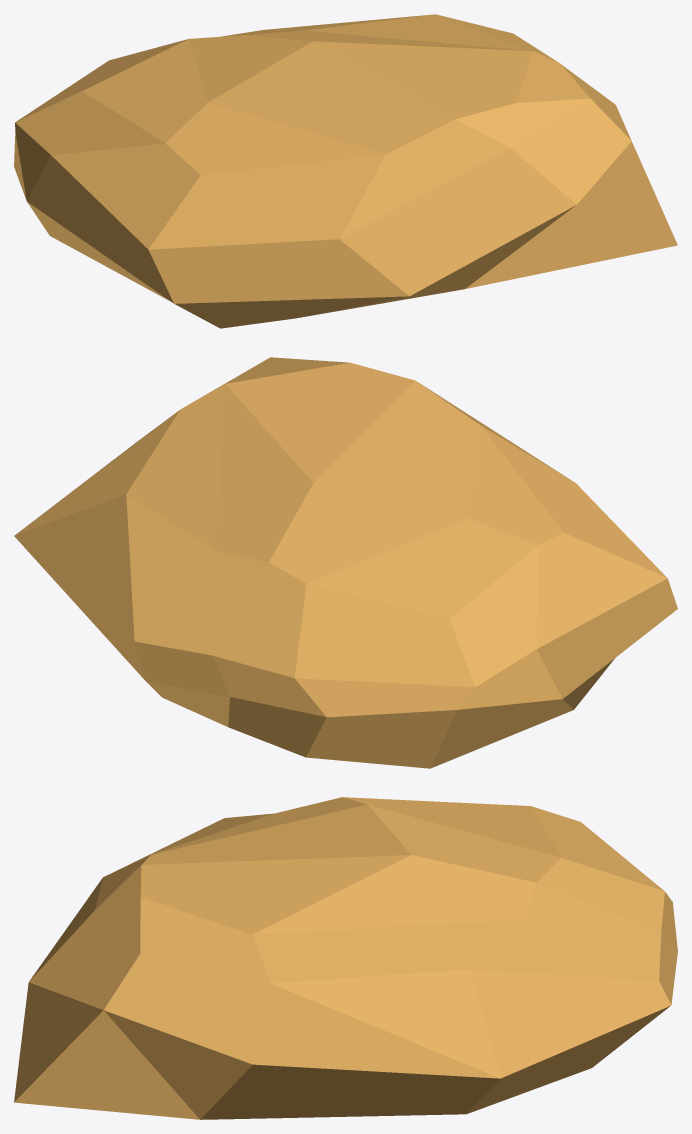
Rendered from stone_3.fbx.
The picture shows the model from 3 angles, top to bottom: view 1: azimuth 30°, elevation 25°; view 2: azimuth 150°, elevation 25°; view 3: azimuth 270°, elevation 25°; orthographic projection. The views are drawn at different scales.
Visible parts, largest first — view 1: Cube.1773; view 2: Cube.1773; view 3: Cube.1773.
Part boxes in pixels (box(x1,y1,x2,y2)): Cube.1773: box(14, 14, 677, 328); Cube.1773: box(14, 357, 677, 768); Cube.1773: box(14, 797, 677, 1119).
Size of the model in its own units: 1538 by 491 by 1554.
